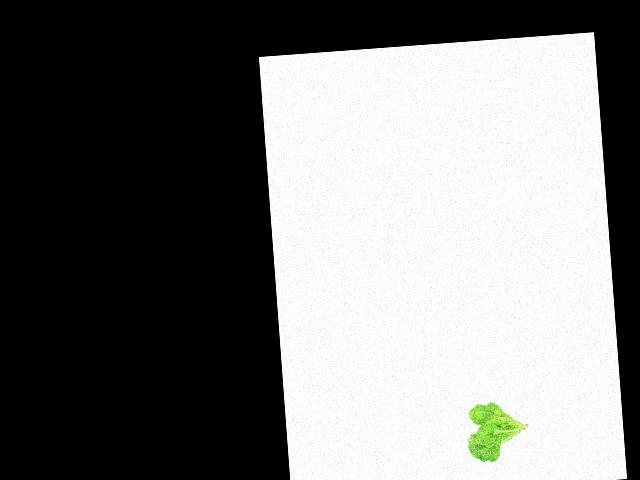lettuce: (461, 397, 532, 467)
